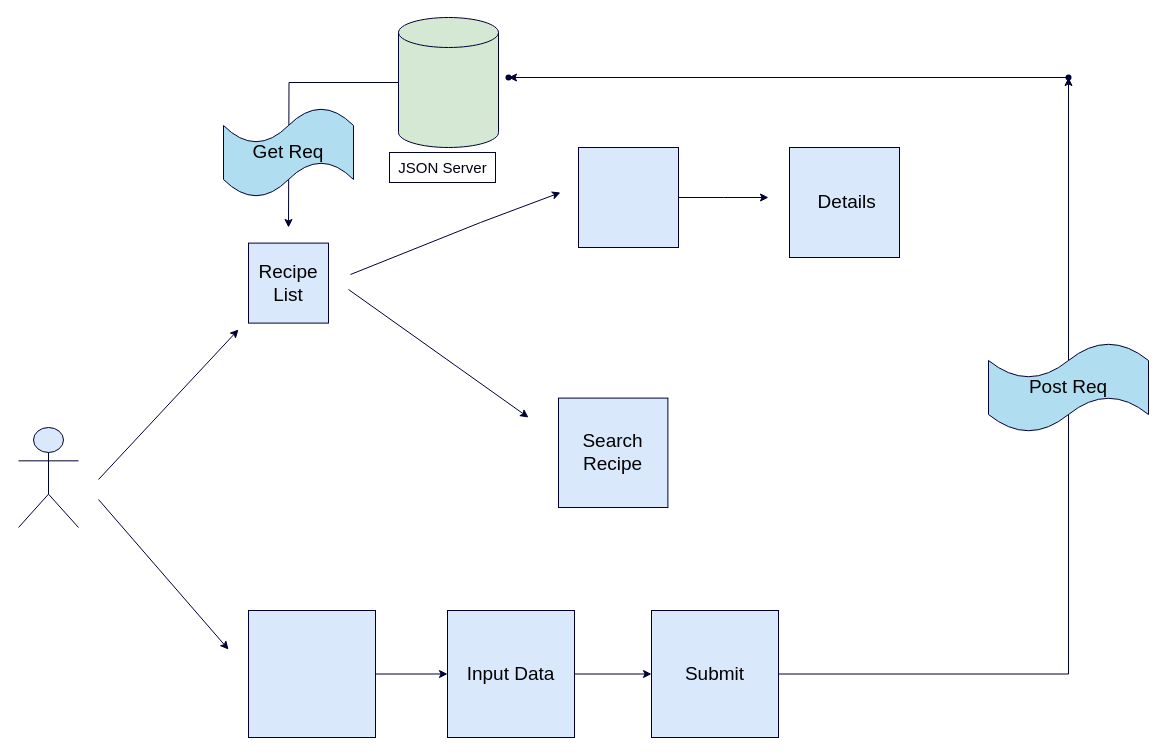
Some shapes in this 1166 by 755 pixel diagram are drawn without their labels. The shapes that lost their labels are listed below. From the top down, each one's box as (x1, y1, x2, y2) in pixels, then its label:
(398, 16, 498, 148): Recioe Data
(578, 146, 678, 248): Selected recipe
(18, 426, 78, 528): User
(248, 610, 376, 738): Add Recipes
